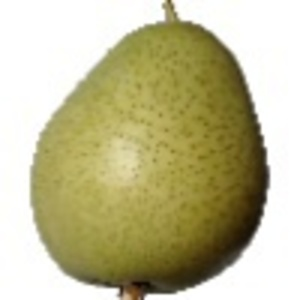pera: (28, 1, 270, 300)
